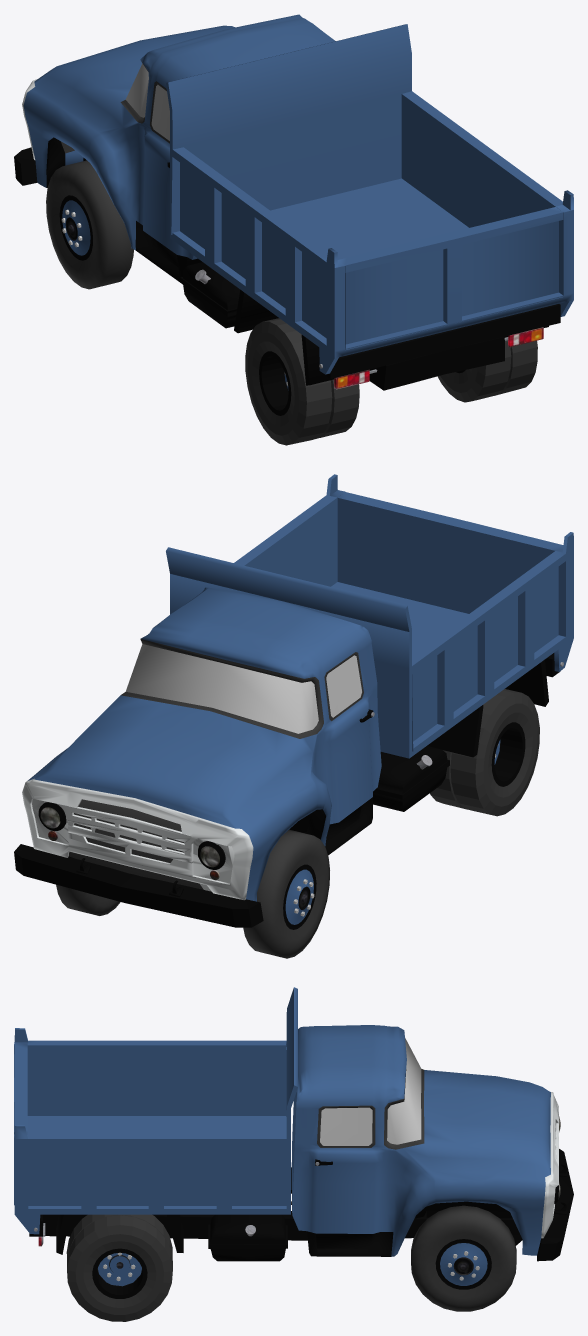
The model's file is truck_7.dae.
3 views of the same model, one above another, from view 1: azimuth 30°, elevation 25°; view 2: azimuth 150°, elevation 25°; view 3: azimuth 270°, elevation 25° (orthographic). The views are drawn at different scales.
Visible parts, largest first — view 1: Kuzov, Kabina, LZ, FL, BalkaKuzov, RZ, Rama, BakLeft, Brizgoviki, Okna, Porogi, Bamper; view 2: Kuzov, Kabina, Rehetka, Okna, LZ, FL, Bamper, BakLeft, Brizgoviki, Porogi, FR, FrontFaraLeft (+1 smaller); view 3: Kuzov, Kabina, RZ, FR, Okna, BakRight, Rama, Porogi, Bamper, Rehetka, Brizgoviki.
Boxes of the visible parts, left/top/right/bottom form: Kuzov: left=166, top=24, right=573, bottom=374; Kabina: left=23, top=14, right=335, bottom=259; LZ: left=245, top=318, right=359, bottom=445; FL: left=46, top=160, right=133, bottom=289; BalkaKuzov: left=322, top=304, right=560, bottom=378; RZ: left=437, top=340, right=537, bottom=402; Rama: left=83, top=158, right=504, bottom=390; BakLeft: left=180, top=262, right=239, bottom=328; Brizgoviki: left=234, top=289, right=548, bottom=385; Okna: left=125, top=64, right=169, bottom=140; Porogi: left=135, top=221, right=187, bottom=284; Bamper: left=14, top=147, right=37, bottom=185; Kuzov: left=166, top=474, right=573, bottom=758; Kabina: left=27, top=587, right=381, bottom=901; Rehetka: left=22, top=778, right=253, bottom=900; Okna: left=126, top=644, right=361, bottom=733; LZ: left=430, top=689, right=539, bottom=816; FL: left=243, top=829, right=329, bottom=958; Bamper: left=14, top=844, right=263, bottom=927; BakLeft: left=373, top=746, right=449, bottom=811; Brizgoviki: left=427, top=660, right=548, bottom=757; Porogi: left=325, top=797, right=372, bottom=855; FR: left=56, top=884, right=120, bottom=915; FrontFaraLeft: left=38, top=802, right=66, bottom=831; Kuzov: left=14, top=987, right=297, bottom=1234; Kabina: left=291, top=1025, right=550, bottom=1256; RZ: left=66, top=1214, right=172, bottom=1321; FR: left=411, top=1205, right=516, bottom=1311; Okna: left=320, top=1038, right=421, bottom=1145; BakRight: left=208, top=1214, right=287, bottom=1261; Rama: left=43, top=1167, right=520, bottom=1240; Porogi: left=307, top=1231, right=393, bottom=1256; Bamper: left=537, top=1149, right=573, bottom=1261; Rehetka: left=541, top=1092, right=558, bottom=1238; Brizgoviki: left=56, top=1214, right=183, bottom=1254.
Bounding box in the file's own units: 220 × 246 × 524.
